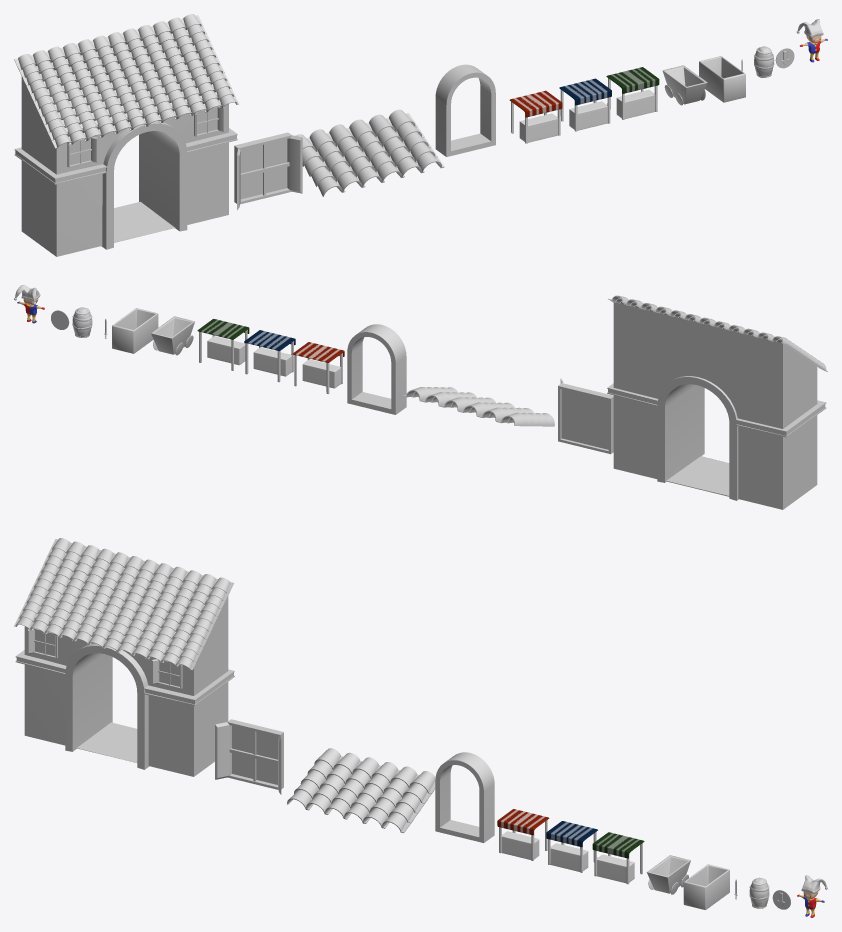
File: medieval_props.fbx
3 renders of one model, top to bottom at view 1: azimuth 30°, elevation 25°; view 2: azimuth 150°, elevation 25°; view 3: azimuth 330°, elevation 25°, orthographic.
Visible parts, largest first — view 1: Tejado(Puerta), Puerta, Arco(Puerta), Tejado, Arco, Ventana, Ventana_Dentro, Caja, Carrito, Mesa(Tienda_Medieval2), Mesa(Tienda_Medieval), Mesa(Tienda_Medieval3) (+3 smaller); view 2: Puerta, Arco(Puerta), Arco, Tejado, Ventana_Dentro, Tejado(Puerta), Caja, Carrito, Ventana, Mesa(Tienda_Medieval2), Mesa(Tienda_Medieval), Mesa(Tienda_Medieval3) (+3 smaller); view 3: Tejado(Puerta), Puerta, Arco(Puerta), Tejado, Arco, Ventana, Ventana_Dentro, Caja, Carrito, Mesa(Tienda_Medieval3), Mesa(Tienda_Medieval), Mesa(Tienda_Medieval2) (+3 smaller).
Boxes of the visible parts, bbox=[...] form: Tejado(Puerta): bbox=[14, 14, 238, 148]; Puerta: bbox=[21, 62, 228, 256]; Arco(Puerta): bbox=[14, 121, 237, 249]; Tejado: bbox=[295, 109, 444, 196]; Arco: bbox=[435, 64, 495, 156]; Ventana: bbox=[234, 132, 302, 210]; Ventana_Dentro: bbox=[240, 139, 287, 199]; Caja: bbox=[699, 56, 745, 102]; Carrito: bbox=[662, 65, 707, 105]; Mesa(Tienda_Medieval2): bbox=[560, 89, 610, 131]; Mesa(Tienda_Medieval): bbox=[511, 101, 560, 143]; Mesa(Tienda_Medieval3): bbox=[608, 78, 657, 119]; Puerta: bbox=[613, 302, 817, 509]; Arco(Puerta): bbox=[607, 376, 826, 500]; Arco: bbox=[347, 324, 406, 414]; Tejado: bbox=[400, 387, 554, 426]; Ventana_Dentro: bbox=[561, 389, 608, 449]; Tejado(Puerta): bbox=[608, 295, 827, 371]; Caja: bbox=[112, 308, 158, 353]; Carrito: bbox=[151, 316, 194, 355]; Ventana: bbox=[558, 378, 613, 454]; Mesa(Tienda_Medieval2): bbox=[245, 341, 294, 382]; Mesa(Tienda_Medieval): bbox=[294, 353, 342, 393]; Mesa(Tienda_Medieval3): bbox=[199, 330, 247, 370]; Tejado(Puerta): bbox=[14, 538, 233, 670]; Puerta: bbox=[24, 553, 228, 776]; Arco(Puerta): bbox=[15, 643, 234, 769]; Tejado: bbox=[287, 748, 435, 832]; Arco: bbox=[435, 752, 494, 842]; Ventana: bbox=[215, 719, 283, 794]; Ventana_Dentro: bbox=[232, 725, 277, 784]; Caja: bbox=[683, 864, 729, 909]; Carrito: bbox=[646, 855, 690, 894]; Mesa(Tienda_Medieval3): bbox=[594, 843, 642, 884]; Mesa(Tienda_Medieval): bbox=[499, 820, 547, 860]; Mesa(Tienda_Medieval2): bbox=[548, 832, 596, 872].
Bounding box in the file's own units: 2962 × 664 × 292.
7 materials, 4 textured.
